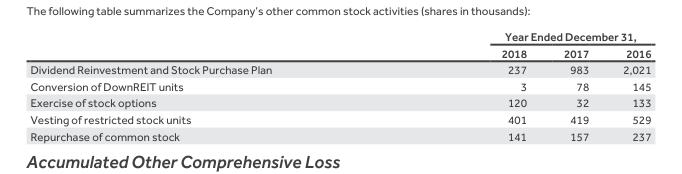table: (29, 28, 650, 142)
table column: (29, 28, 385, 142), (385, 28, 544, 142), (544, 28, 605, 142), (605, 28, 650, 142)
table column header: (29, 28, 650, 60)
table row: (29, 60, 650, 77), (29, 77, 650, 94), (29, 110, 650, 127), (29, 28, 650, 44), (29, 44, 650, 60), (29, 94, 650, 110), (29, 127, 650, 142)
table spanning cell: (385, 28, 650, 44)
